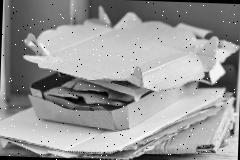paper: (0, 3, 239, 160), (0, 79, 233, 160), (21, 2, 220, 94), (26, 74, 198, 133), (173, 23, 239, 86)
